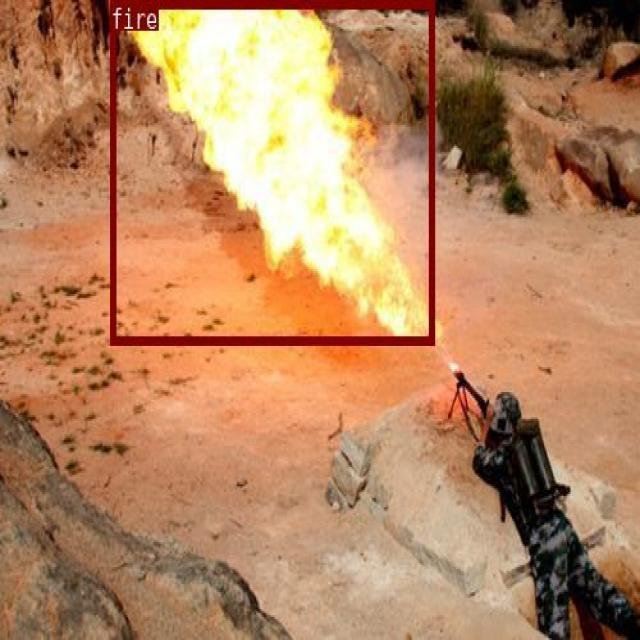fire: (110, 0, 434, 342)
